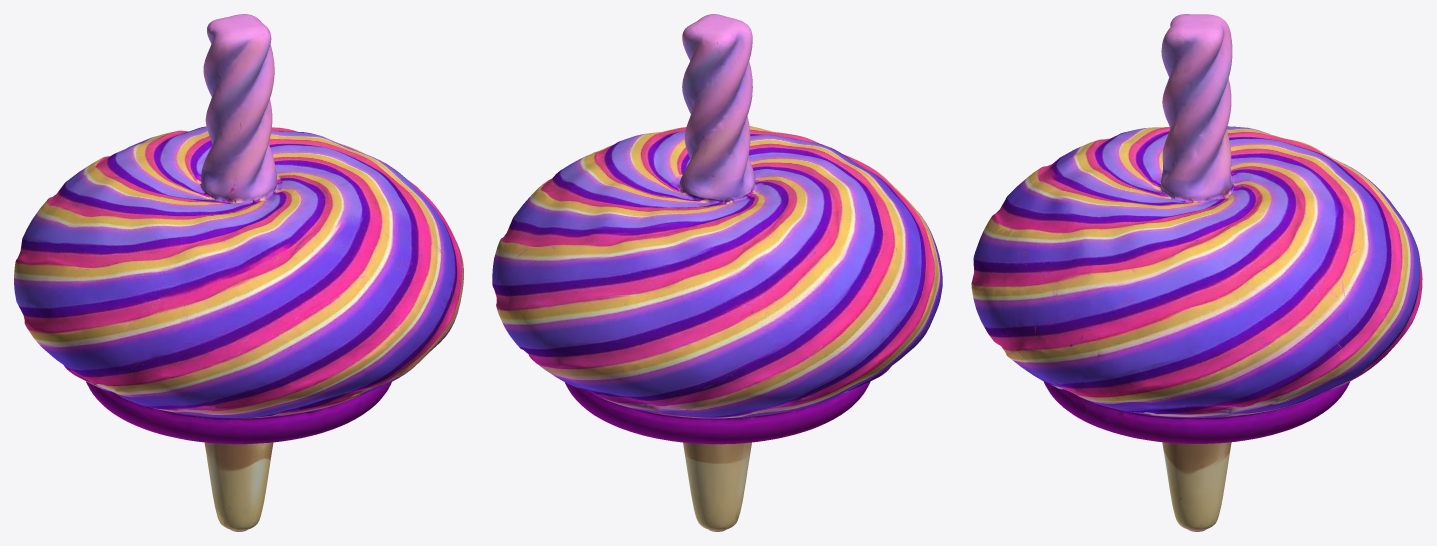
3 renders of one model, left to right at view 1: azimuth 30°, elevation 25°; view 2: azimuth 150°, elevation 25°; view 3: azimuth 270°, elevation 25°, orthographic.
Parts seen in each view (by area): view 1: Mesh_0; view 2: Mesh_0; view 3: Mesh_0.
Part boxes in pixels (left/top/right/bottom): Mesh_0: left=14, top=14, right=463, bottom=531; Mesh_0: left=492, top=14, right=942, bottom=531; Mesh_0: left=971, top=14, right=1422, bottom=531.
Size of the model in its own units: 1.54 by 1.91 by 1.54.
1 material, 1 textured.
